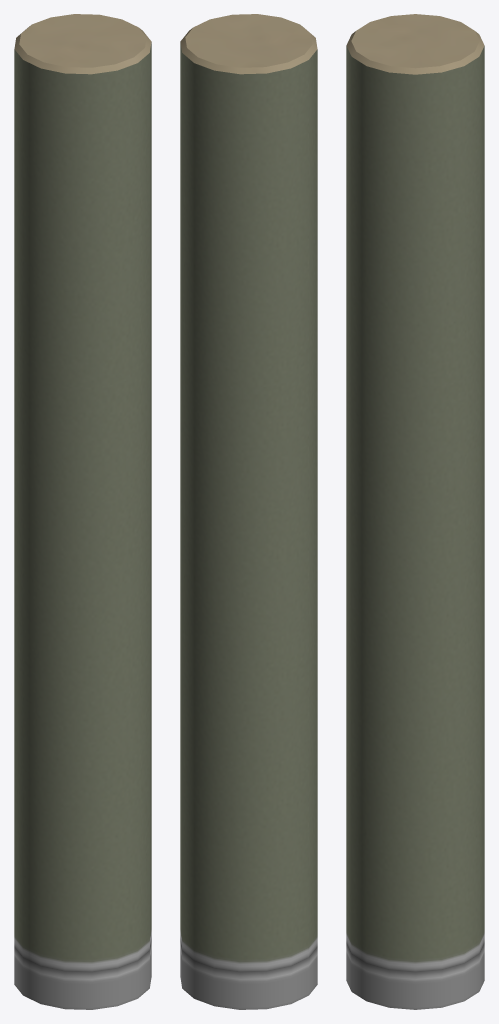
The model's file is column3_2.fbx.
3 views of the same model, side by side, from view 1: azimuth 30°, elevation 25°; view 2: azimuth 150°, elevation 25°; view 3: azimuth 270°, elevation 25° (orthographic).
Parts seen in each view (by area): view 1: column3_b; view 2: column3_b; view 3: column3_b.
Boxes of the visible parts, x1,y1,x2,y2 form: column3_b: (14, 14, 151, 1009); column3_b: (180, 14, 317, 1009); column3_b: (346, 14, 484, 1009).
Bounding box in the file's own units: 80 × 600 × 80.
